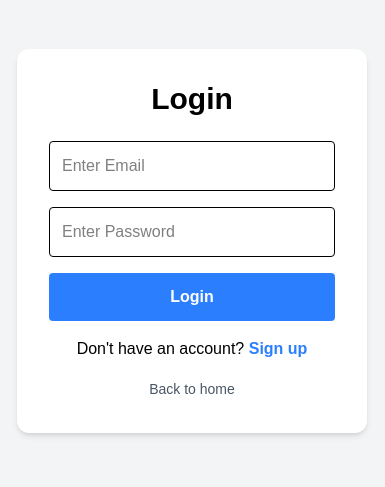
Login Page › should display validation error for empty fields
Click the button "Login" at (192, 297), box [49,273,335,321]
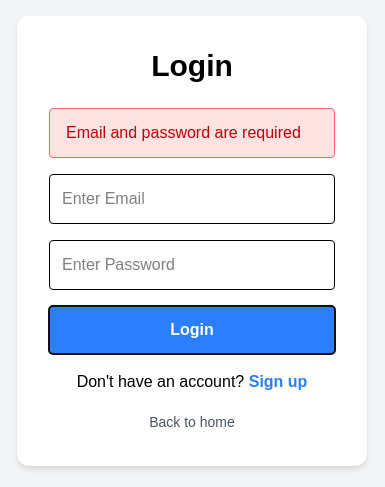
Result: the text "Email and password are required" is shown at [49,108,335,158]
